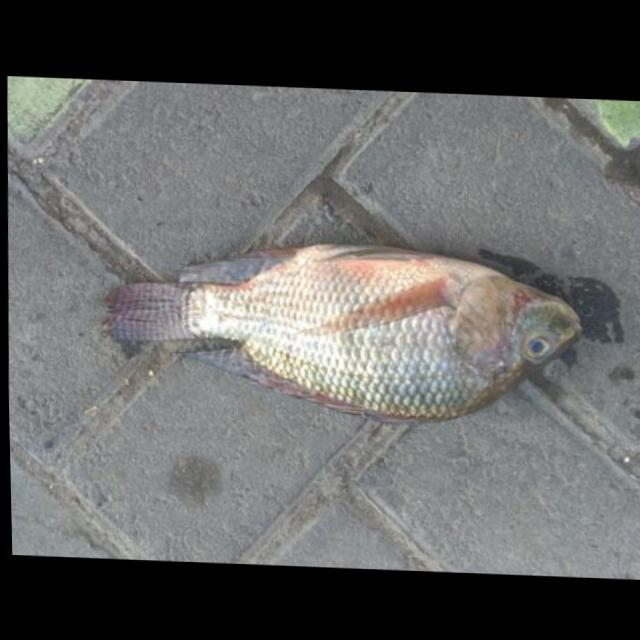Tilapia: (102, 232, 587, 432)
